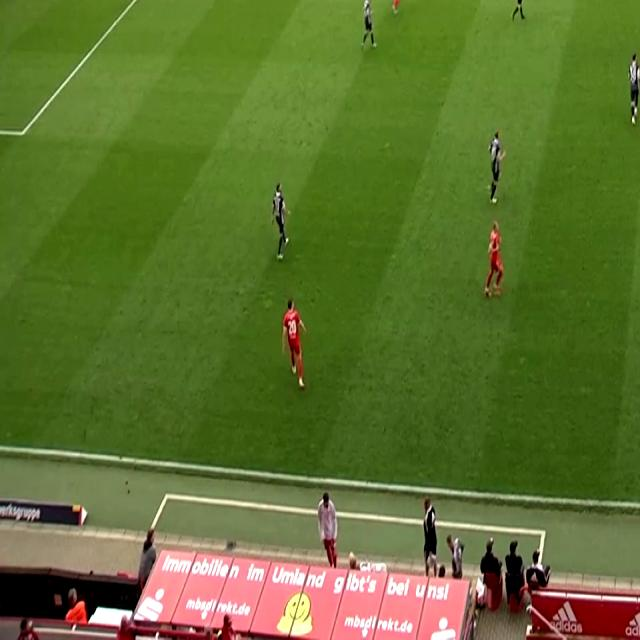referee: (505, 0, 530, 27)
soccer-player: (274, 297, 316, 395), (478, 221, 512, 306), (266, 178, 298, 264), (482, 124, 511, 208), (359, 0, 386, 58), (622, 49, 640, 129), (382, 0, 404, 14)
